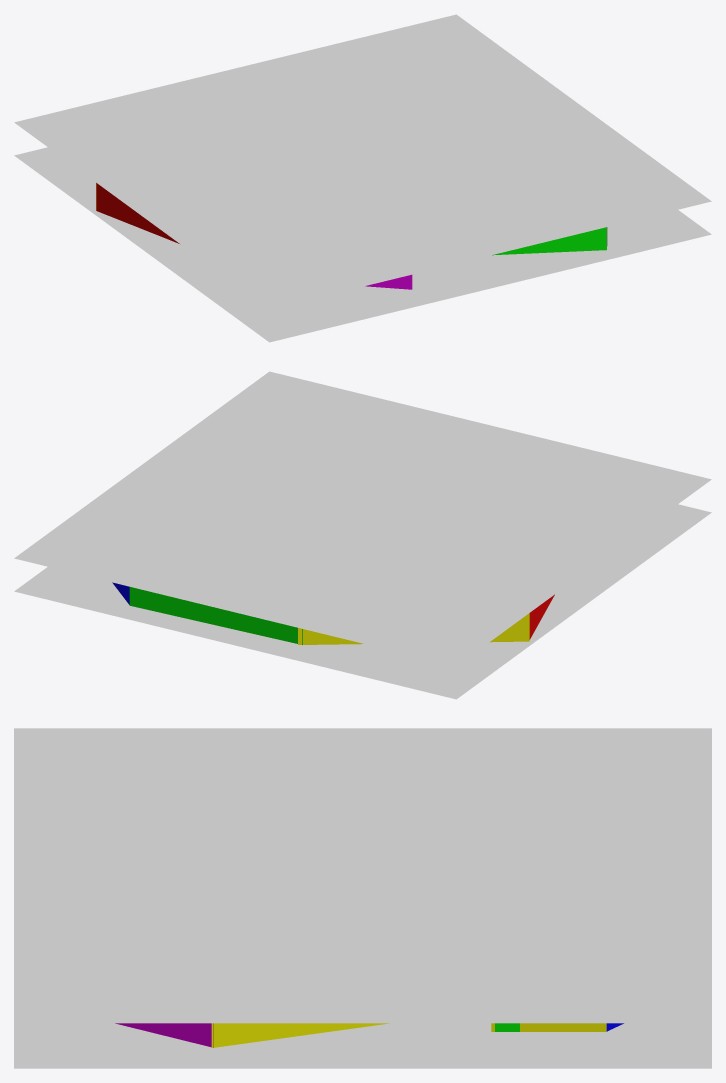
The model's file is level1.obj.
3 renders of one model, top to bottom at view 1: azimuth 30°, elevation 25°; view 2: azimuth 150°, elevation 25°; view 3: azimuth 270°, elevation 25°, orthographic. The views are drawn at different scales.
Parts seen in each view (by area): view 1: Plane.005, Plane.004, Plane.023_Plane.031, Plane.037; view 2: Plane.005, Plane.004, Plane.032_Plane.014, Plane.038; view 3: Plane.005, Plane.004, Plane.027_Plane.035, Plane.026_Plane.034, Plane.016_Plane.025.
Boxes of the visible parts, <box> form: Plane.005: <box>14,14,711,309</box>; Plane.004: <box>14,147,711,342</box>; Plane.023_Plane.031: <box>492,227,606,255</box>; Plane.037: <box>96,183,179,243</box>; Plane.005: <box>14,371,711,666</box>; Plane.004: <box>14,504,711,699</box>; Plane.032_Plane.014: <box>129,587,302,644</box>; Plane.038: <box>298,613,529,644</box>; Plane.005: <box>14,728,711,1023</box>; Plane.004: <box>14,1023,711,1068</box>; Plane.027_Plane.035: <box>211,1023,389,1047</box>; Plane.026_Plane.034: <box>115,1023,213,1047</box>; Plane.016_Plane.025: <box>491,1023,606,1031</box>.
Bounding box in the file's own units: 140 × 10 × 140.
